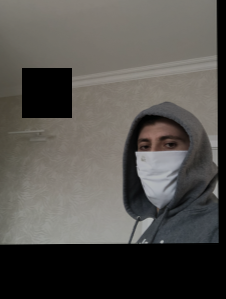with_mask: (135, 129, 190, 209)
